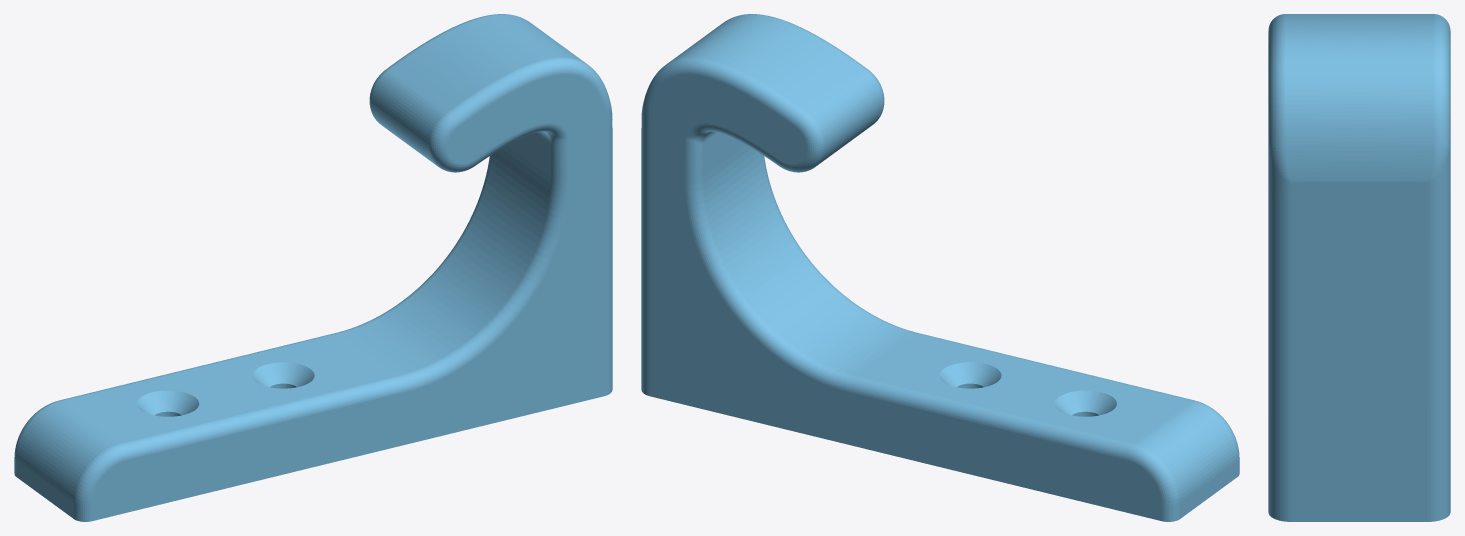
Rendered from gancho.dae.
3 views of the same model, side by side, from view 1: azimuth 30°, elevation 25°; view 2: azimuth 150°, elevation 25°; view 3: azimuth 270°, elevation 25° (orthographic). The views are drawn at different scales.
Visible parts, largest first — view 1: Pi├¿ce3; view 2: Pi├¿ce3; view 3: Pi├¿ce3.
Boxes of the visible parts, left/top/right/bottom form: Pi├¿ce3: left=14, top=14, right=612, bottom=521; Pi├¿ce3: left=641, top=14, right=1239, bottom=521; Pi├¿ce3: left=1268, top=14, right=1450, bottom=521.
Size of the model in its own units: 0.105 by 0.024 by 0.0643.
